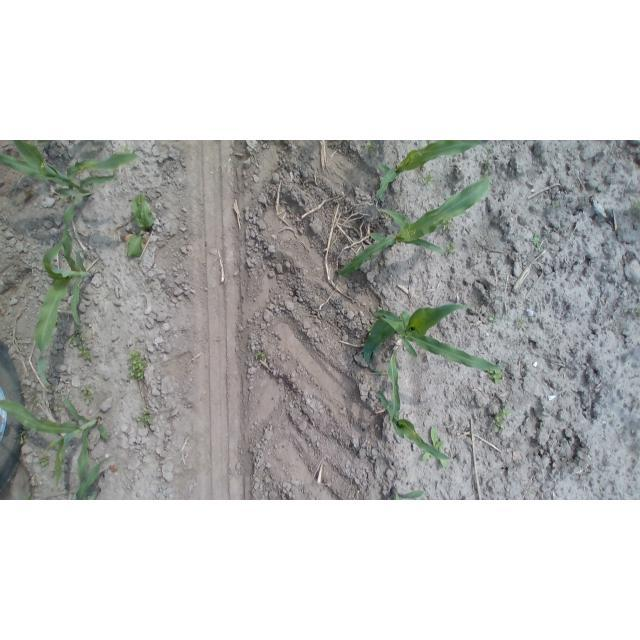Maize: (335, 170, 492, 284), (354, 297, 502, 380), (34, 195, 96, 391), (0, 396, 112, 489), (372, 141, 493, 214), (378, 348, 452, 461), (0, 140, 144, 197), (72, 454, 117, 500), (382, 484, 432, 500)
Weeds: (124, 194, 162, 261), (424, 427, 449, 467), (126, 348, 151, 384), (69, 329, 92, 363), (489, 404, 513, 436), (135, 408, 156, 429), (77, 385, 96, 408), (416, 172, 439, 189), (488, 367, 505, 386), (361, 140, 384, 152), (528, 233, 543, 251), (117, 144, 138, 156), (484, 314, 502, 327), (440, 220, 456, 233), (444, 241, 456, 256), (254, 351, 270, 362), (514, 316, 527, 329), (38, 456, 50, 469), (631, 200, 640, 217), (53, 403, 65, 414), (22, 492, 38, 500), (365, 325, 375, 336), (20, 429, 26, 446), (635, 305, 640, 318)
